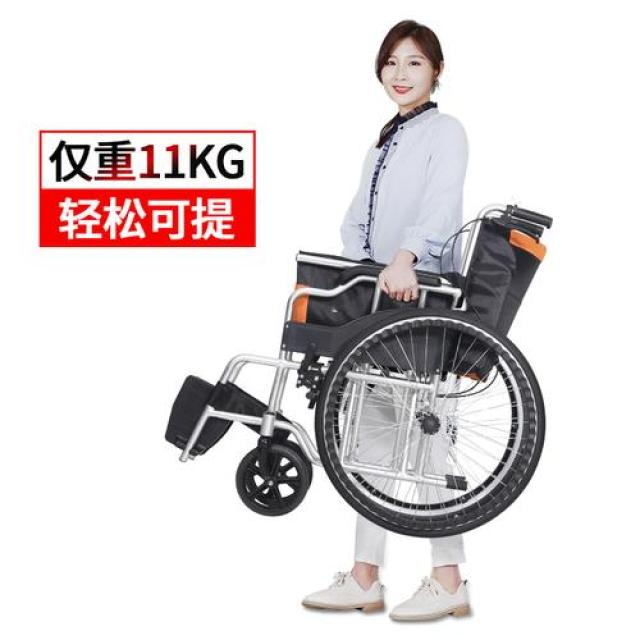wheelchairs: (136, 179, 582, 547)
